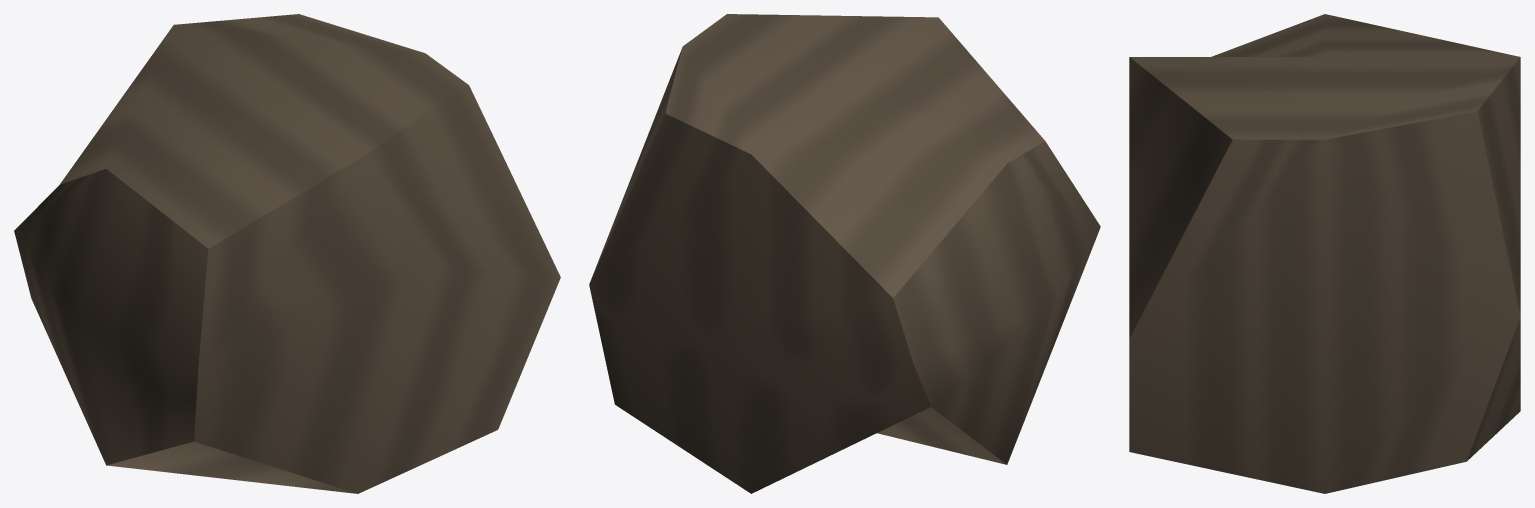
The model's file is rock_large.fbx.
The picture shows the model from 3 angles, left to right: view 1: azimuth 30°, elevation 25°; view 2: azimuth 150°, elevation 25°; view 3: azimuth 270°, elevation 25°; orthographic projection. The views are drawn at different scales.
Parts seen in each view (by area): view 1: pebble_large; view 2: pebble_large; view 3: pebble_large.
Part boxes in pixels (x1=…): pebble_large: x1=14, y1=14, x2=560, y2=493; pebble_large: x1=589, y1=14, x2=1100, y2=493; pebble_large: x1=1129, y1=14, x2=1520, y2=493.
Bounding box in the file's own units: 2.54 × 2 × 2.
Materials: 1 (1 with a texture image).
